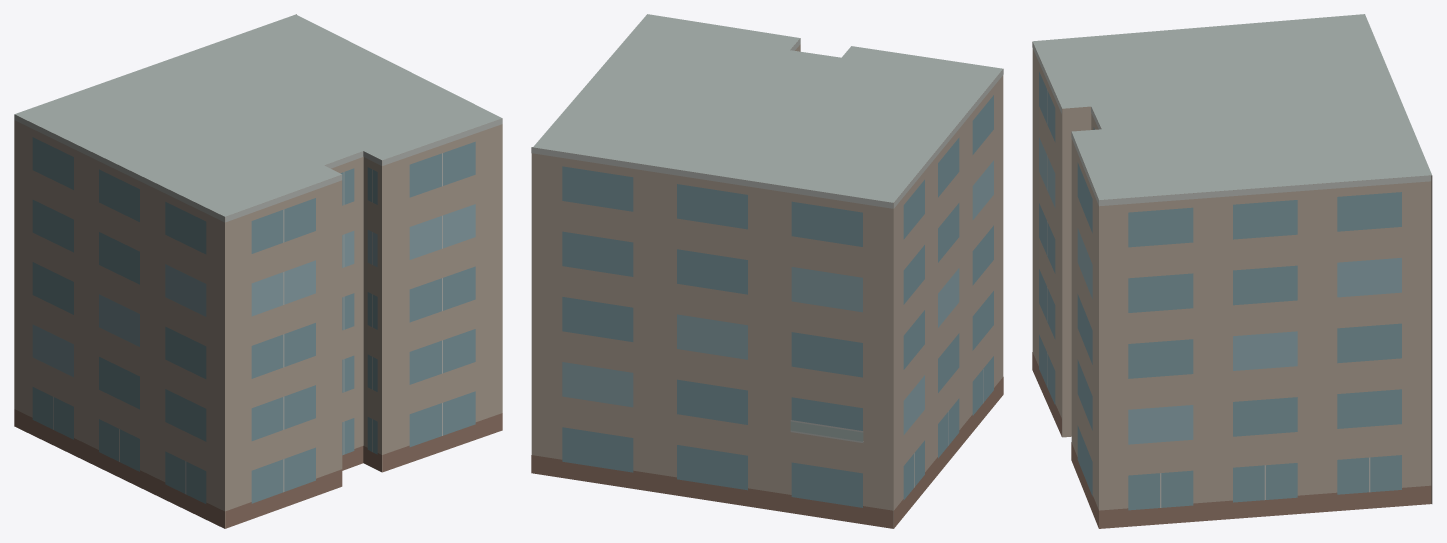
The model's file is survey-upis-33020487.glb.
3 views of the same model, side by side, from view 1: azimuth 30°, elevation 25°; view 2: azimuth 150°, elevation 25°; view 3: azimuth 270°, elevation 25° (orthographic). The views are drawn at different scales.
Parts seen in each view (by area): view 1: survey-upis-33020487.tmp; view 2: survey-upis-33020487.tmp; view 3: survey-upis-33020487.tmp.
Boxes of the visible parts, x1=… form: survey-upis-33020487.tmp: x1=14, y1=14, x2=502, y2=528; survey-upis-33020487.tmp: x1=531, y1=14, x2=1003, y2=528; survey-upis-33020487.tmp: x1=1032, y1=14, x2=1432, y2=528.
Bounding box in the file's own units: 16.04 × 13.2 × 14.57.
